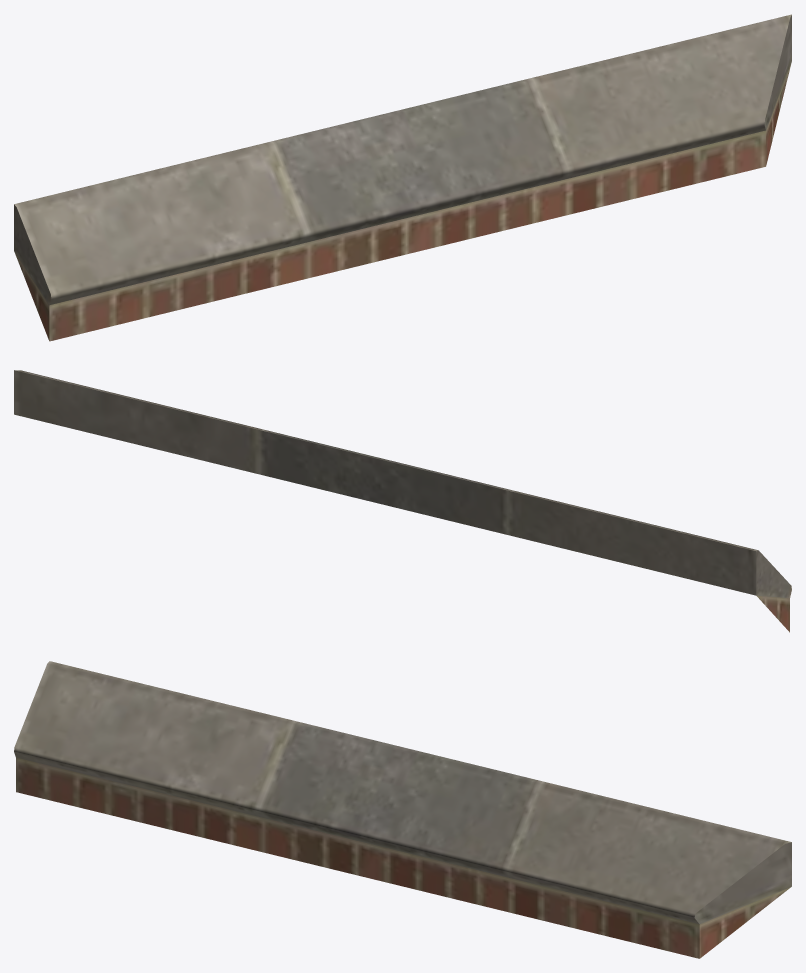
File: roof.brick.corner.90.concave.r.top.line.glb
The picture shows the model from 3 angles, top to bottom: view 1: azimuth 30°, elevation 25°; view 2: azimuth 150°, elevation 25°; view 3: azimuth 330°, elevation 25°; orthographic projection. The views are drawn at different scales.
Parts seen in each view (by area): view 1: model; view 2: model; view 3: model.
Boxes of the visible parts, x1,y1,x2,y2 form: model: (14,14,791,341); model: (14,370,791,632); model: (14,661,791,958).
Size of the model in its own units: 3 by 0.4105 by 0.25.
1 material, 1 textured.
